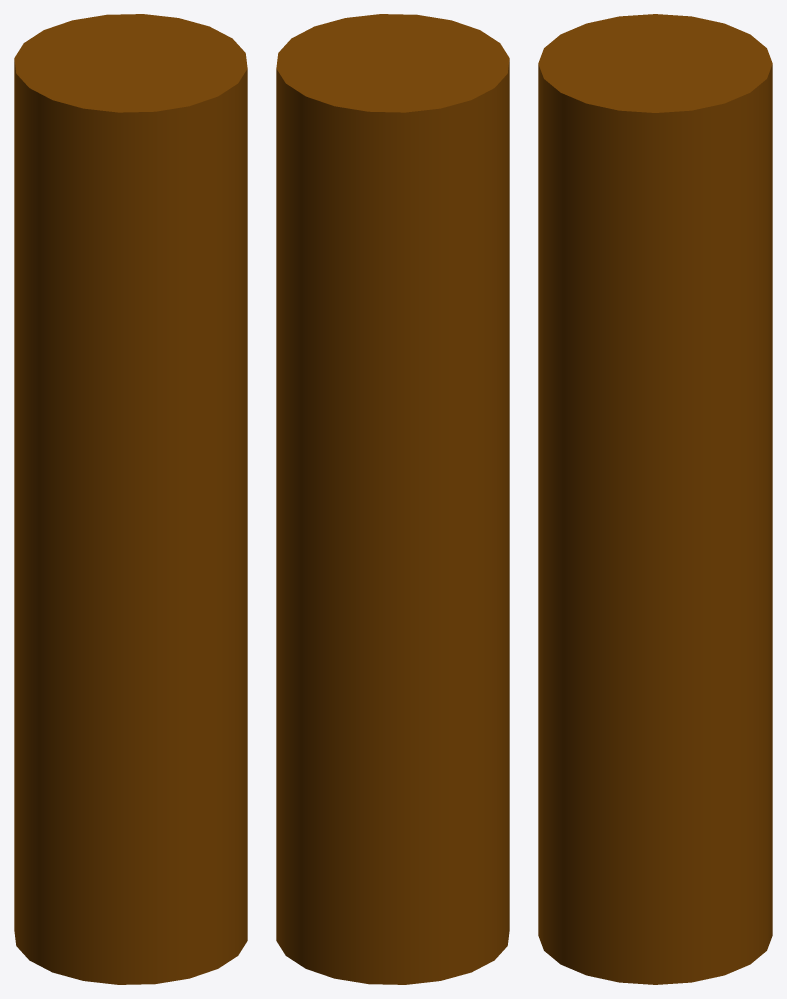
The model's file is TreeTrunk.fbx.
The picture shows the model from 3 angles, left to right: view 1: azimuth 30°, elevation 25°; view 2: azimuth 150°, elevation 25°; view 3: azimuth 270°, elevation 25°; orthographic projection.
Visible parts, largest first — view 1: polySurface1; view 2: polySurface1; view 3: polySurface1.
Part boxes in pixels (x1,y1,x2,y2): polySurface1: (14, 14, 247, 984); polySurface1: (276, 14, 509, 984); polySurface1: (538, 14, 772, 984).
Bounding box in the file's own units: 1.07 × 1.07 × 4.4.
